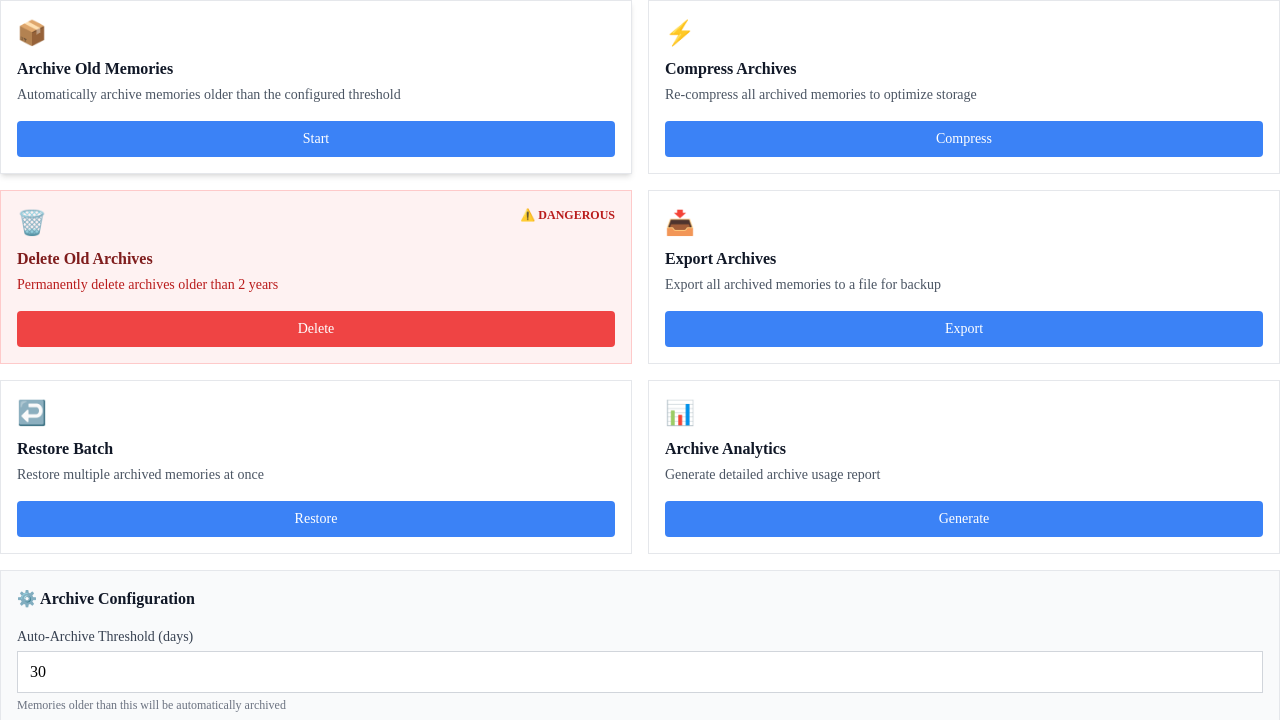
it: Archive Components › ArchiveActionsPanel › shows confirmation dialog for dangerous actions
// Find and click the delete button
Click the button "Delete" at (316, 329), box [17,311,615,347]
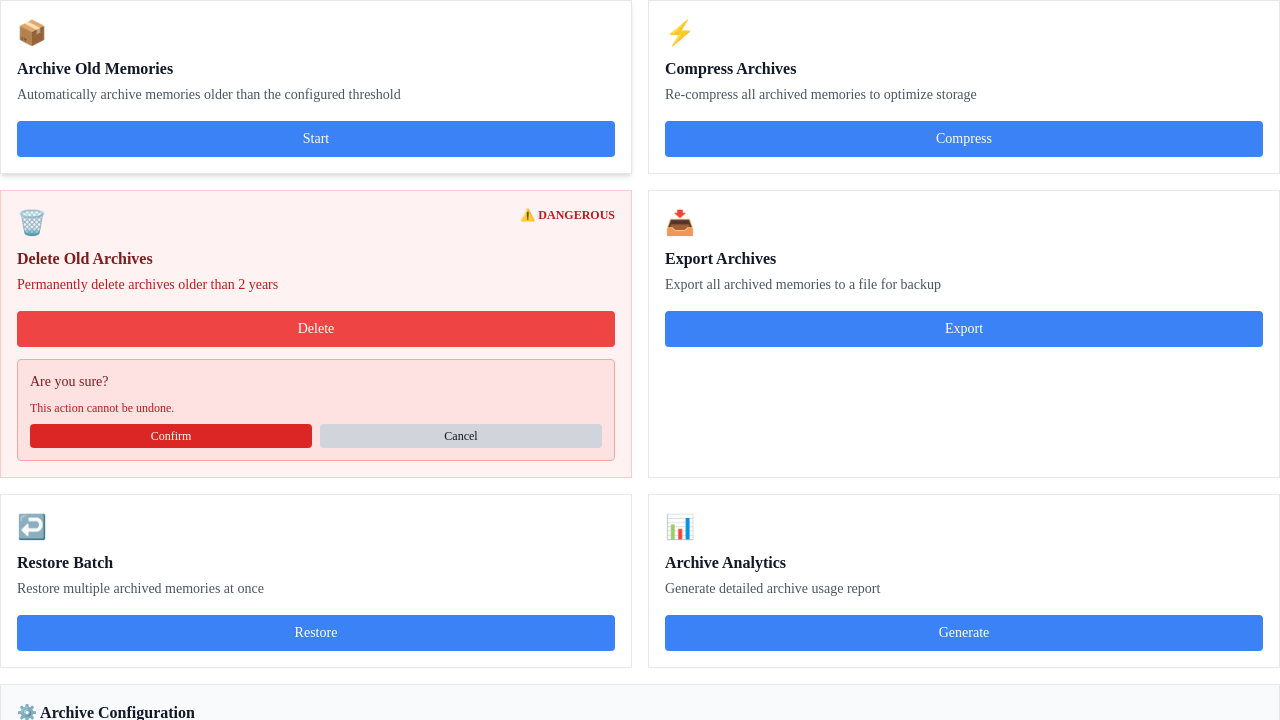
Expected: the text "Are you sure?" is shown, [30,374,108,389]
Expected: the text "This action cannot be undone." is shown, [30,401,174,415]
